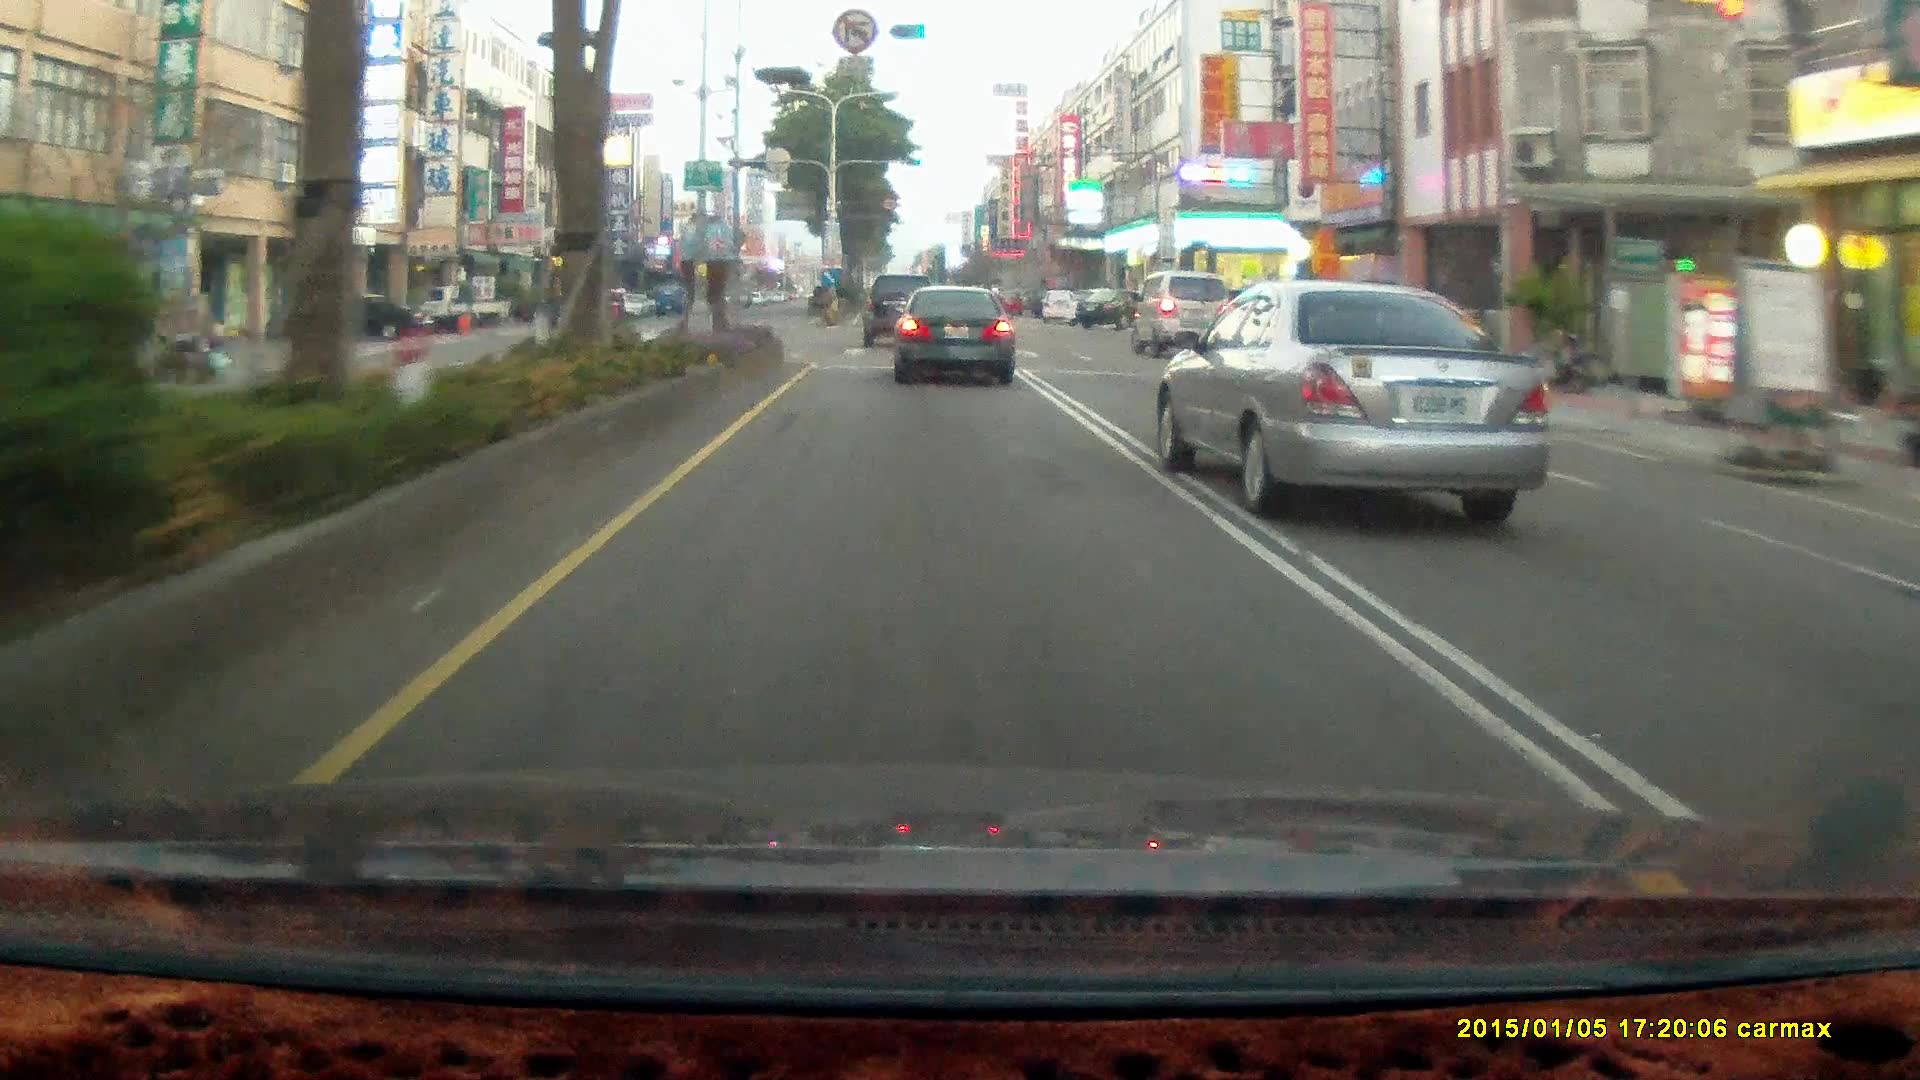vehicle: (1160, 281, 1567, 521), (897, 284, 1018, 386), (891, 284, 1014, 385), (1131, 270, 1233, 361), (1131, 268, 1232, 359), (302, 293, 430, 342), (861, 272, 940, 349), (862, 273, 938, 345), (417, 286, 513, 335), (414, 284, 508, 330), (1077, 285, 1151, 327), (1038, 286, 1079, 320)
